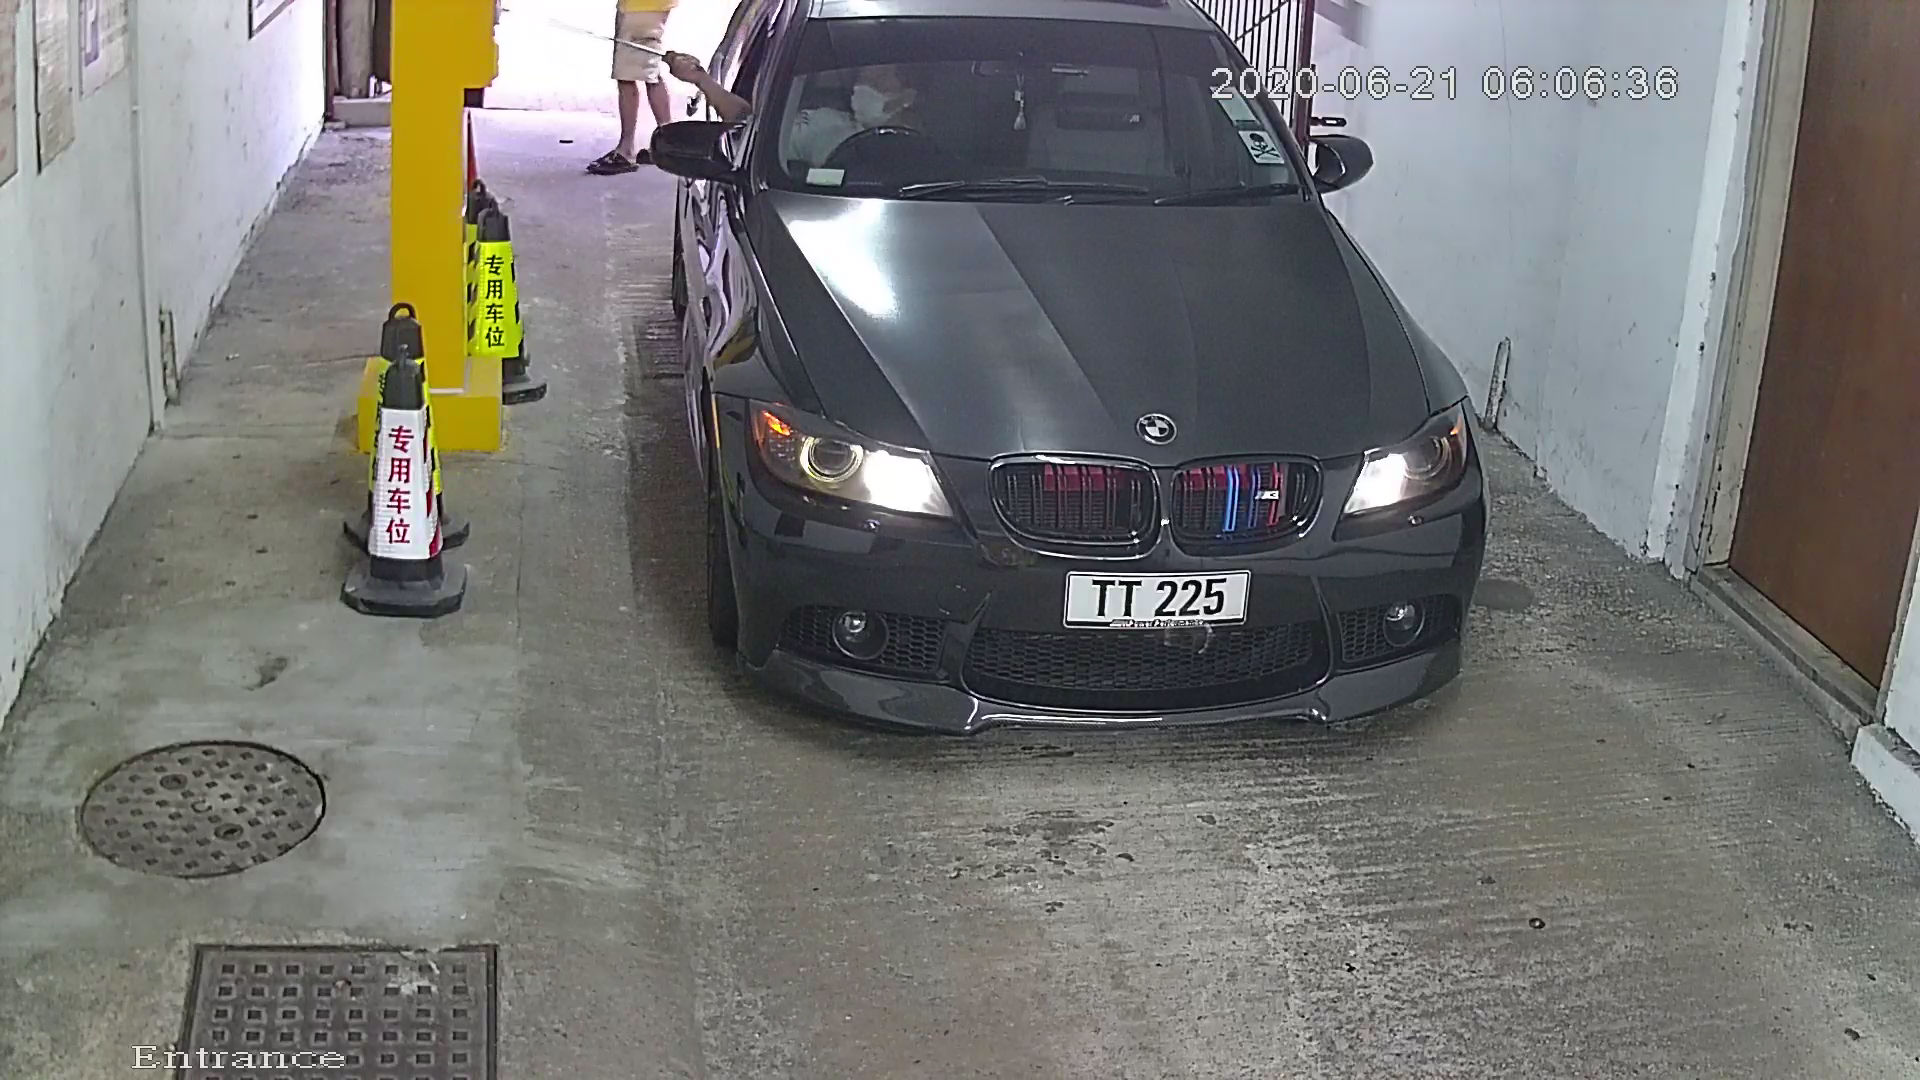privatecar: (649, 3, 1509, 793)
